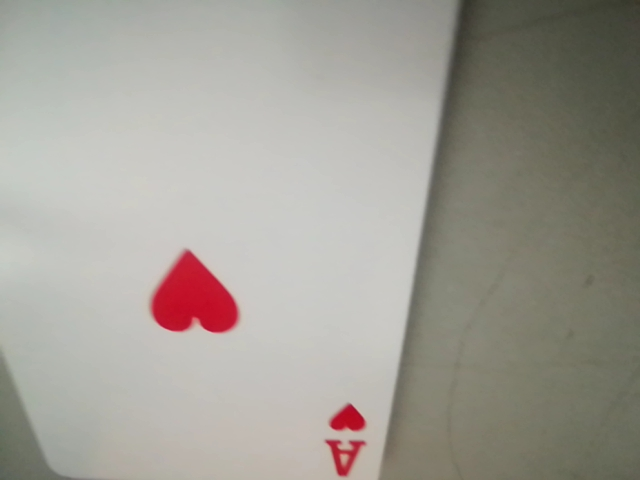hx a: (316, 402, 377, 473)
